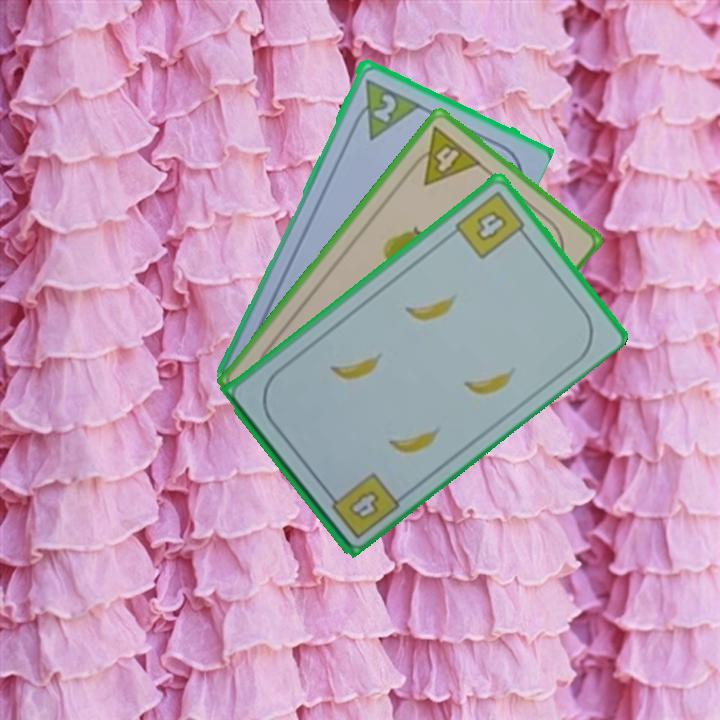2p: (347, 74, 421, 142)
4b: (451, 187, 532, 262), (321, 468, 402, 542)
4p: (404, 122, 484, 189)
